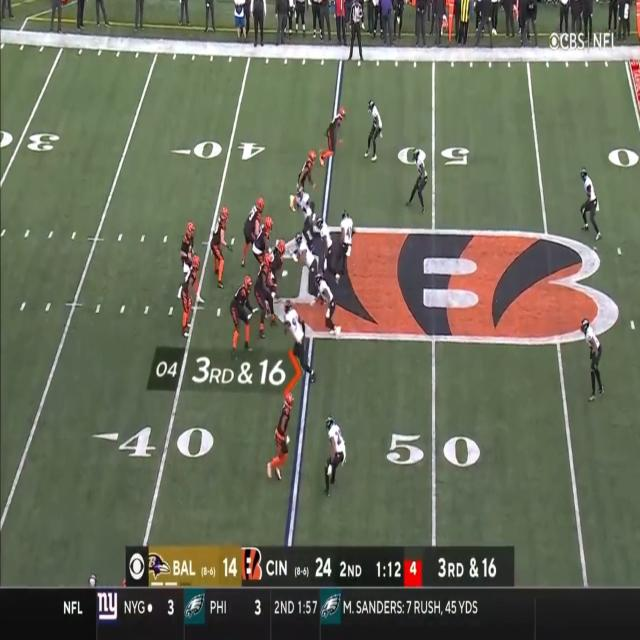Ball: (187, 251, 194, 262)
